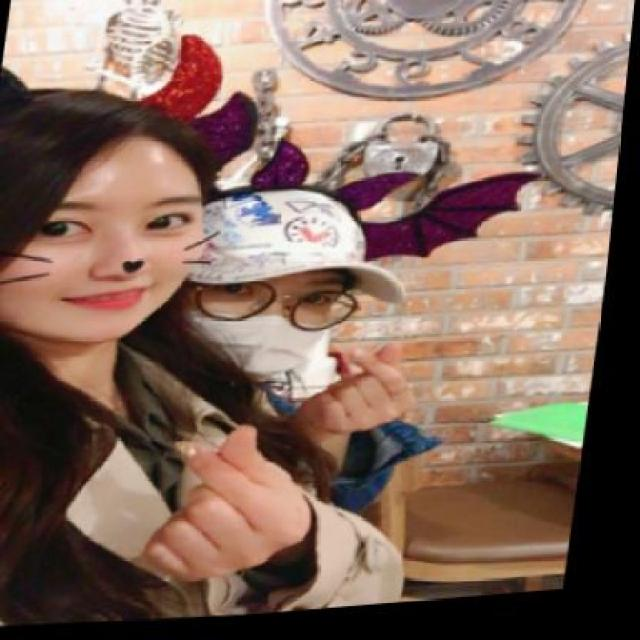hat: (172, 177, 440, 334)
